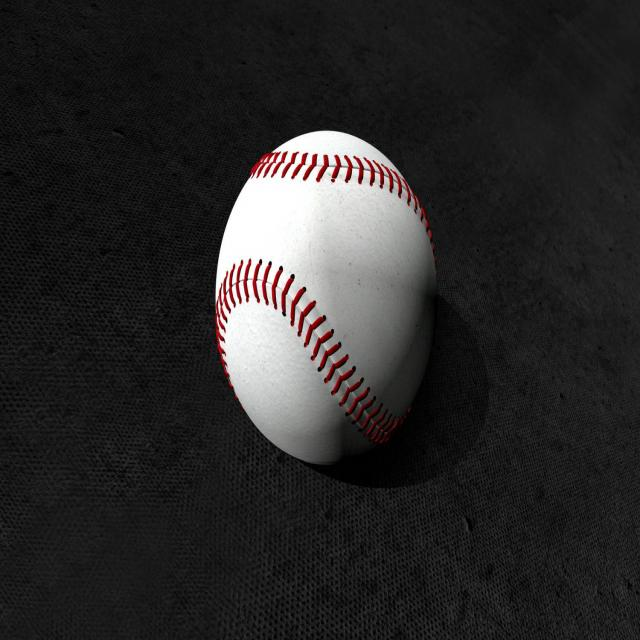baseball: (214, 128, 438, 470)
